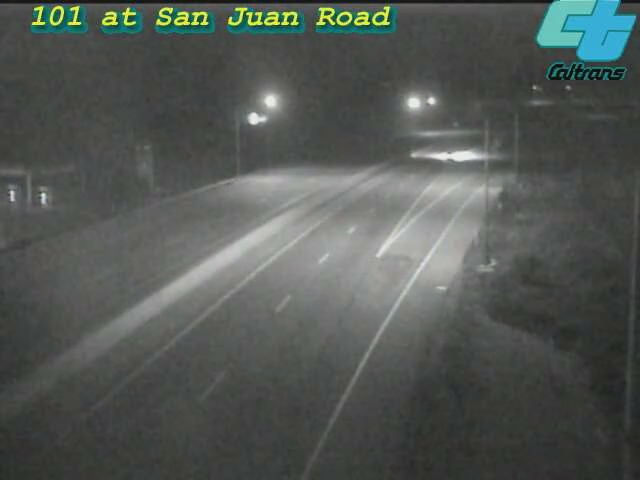vehicle: (408, 116, 488, 196)
